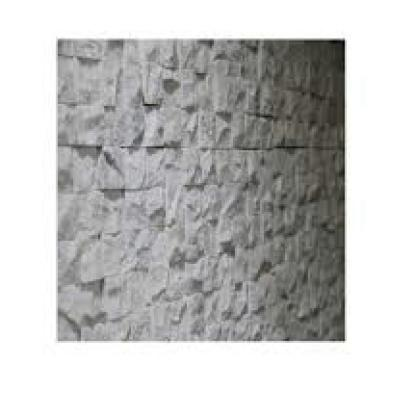Metamorphic_Marble: (58, 42, 341, 341)
